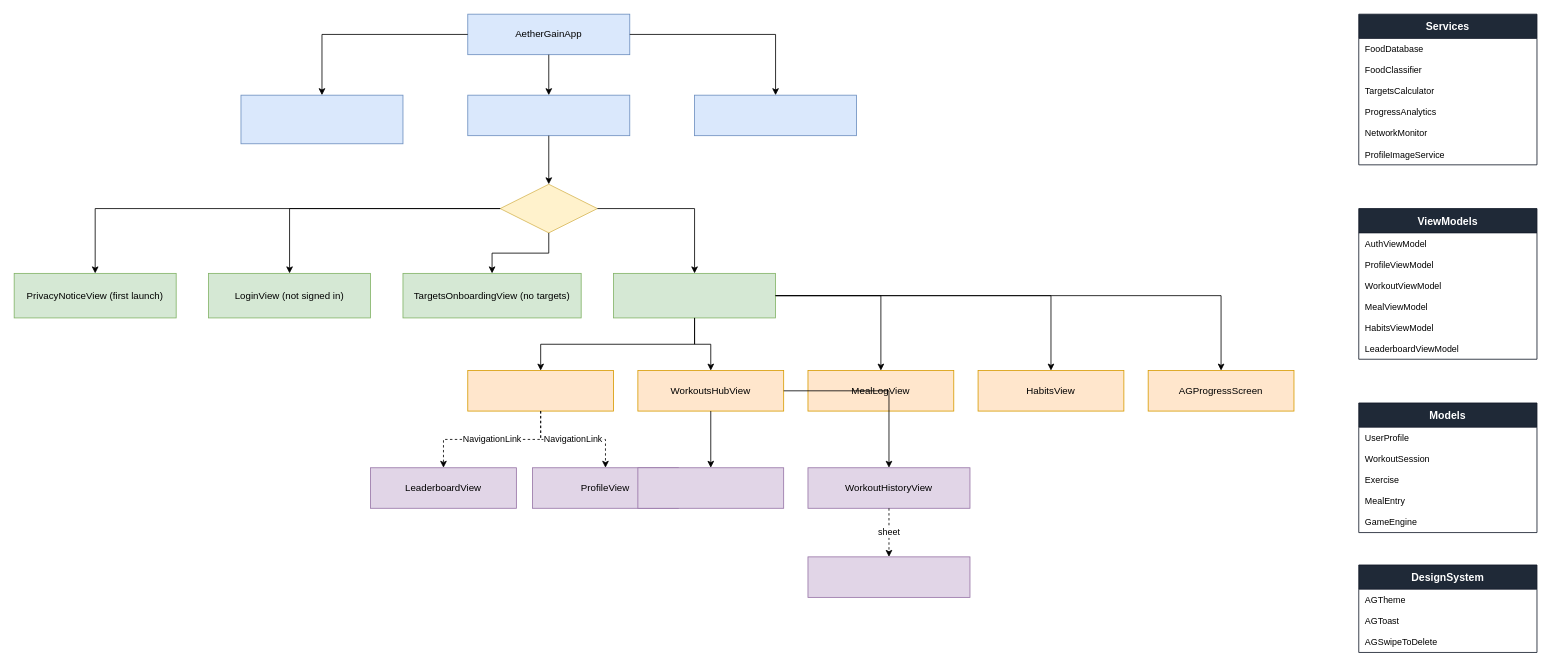
The diagram is 1551 pixels wide and 667 high, and some of its shapes have lost their labels. The centre of each missing label's shape, as x and y in pixels:
"AGToastHost" belongs at (x=775, y=115).
"AppDelegate (Firebase.configure + PersistentCache)" belongs at (x=321, y=119).
"ContentView" belongs at (x=548, y=115).
"Gate" belongs at (x=548, y=208).
"HomeView" belongs at (x=540, y=390).
"LogWorkoutView" belongs at (x=710, y=487).
"MainTabView (ready)" belongs at (x=694, y=295).
"WorkoutEditSheet" belongs at (x=888, y=576).
